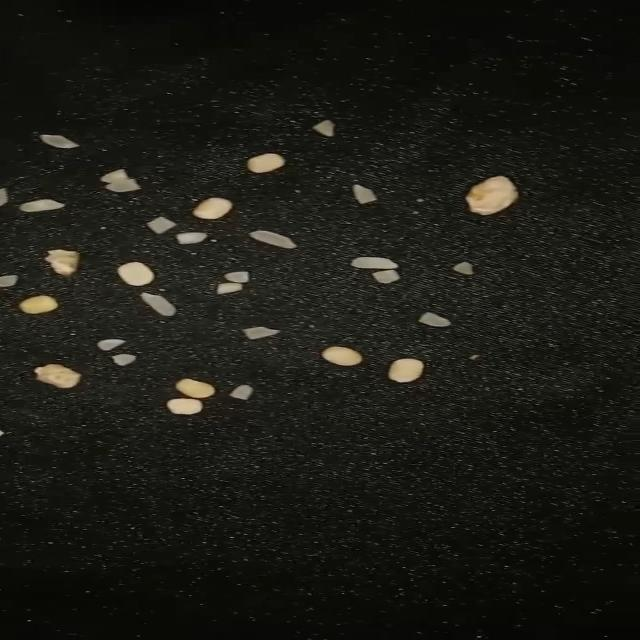Broken: (40, 134, 80, 149), (20, 199, 64, 212), (148, 216, 176, 234), (418, 312, 451, 327), (105, 179, 141, 192), (353, 184, 376, 204), (243, 327, 280, 339), (100, 169, 130, 183), (177, 232, 208, 245), (373, 270, 399, 284), (230, 385, 253, 400), (314, 120, 334, 137), (97, 340, 126, 350), (112, 354, 136, 366), (217, 283, 243, 294), (453, 262, 474, 275), (225, 272, 250, 282), (0, 274, 17, 286), (0, 188, 7, 206)
Full: (250, 230, 296, 248), (142, 292, 176, 316), (351, 257, 398, 269)
